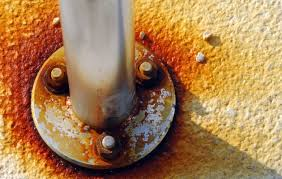rust: (1, 5, 72, 172), (34, 139, 196, 179), (164, 47, 195, 151), (138, 26, 192, 59), (42, 59, 73, 98), (130, 56, 162, 90), (92, 129, 124, 158)
